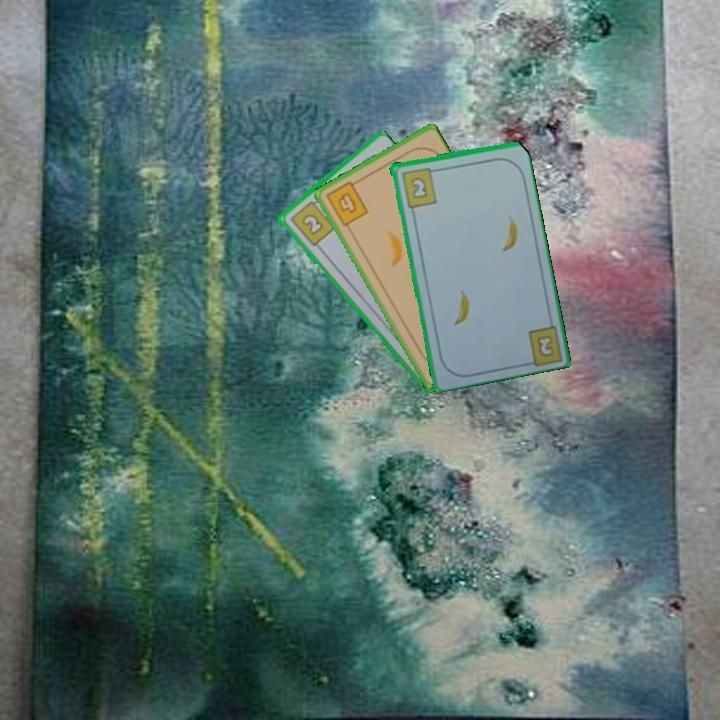2b: (286, 195, 337, 249), (520, 319, 564, 368), (398, 164, 440, 210)
4b: (322, 176, 371, 229)
